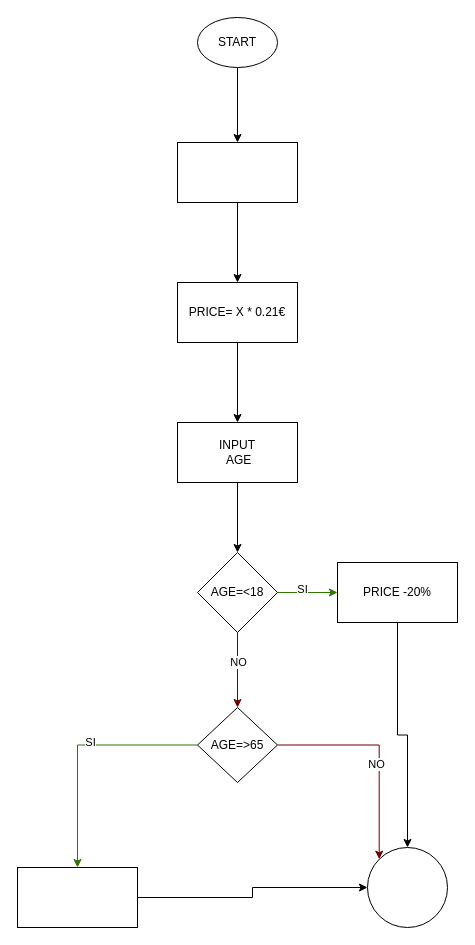
Some shapes in this 475 by 945 pixel diagram are drawn without their labels. Each missing label, with the centre of its shape:
INPUT DISTANCE: point (237, 172)
PRICE: point (407, 887)
PRICE- 40%: point (77, 897)
